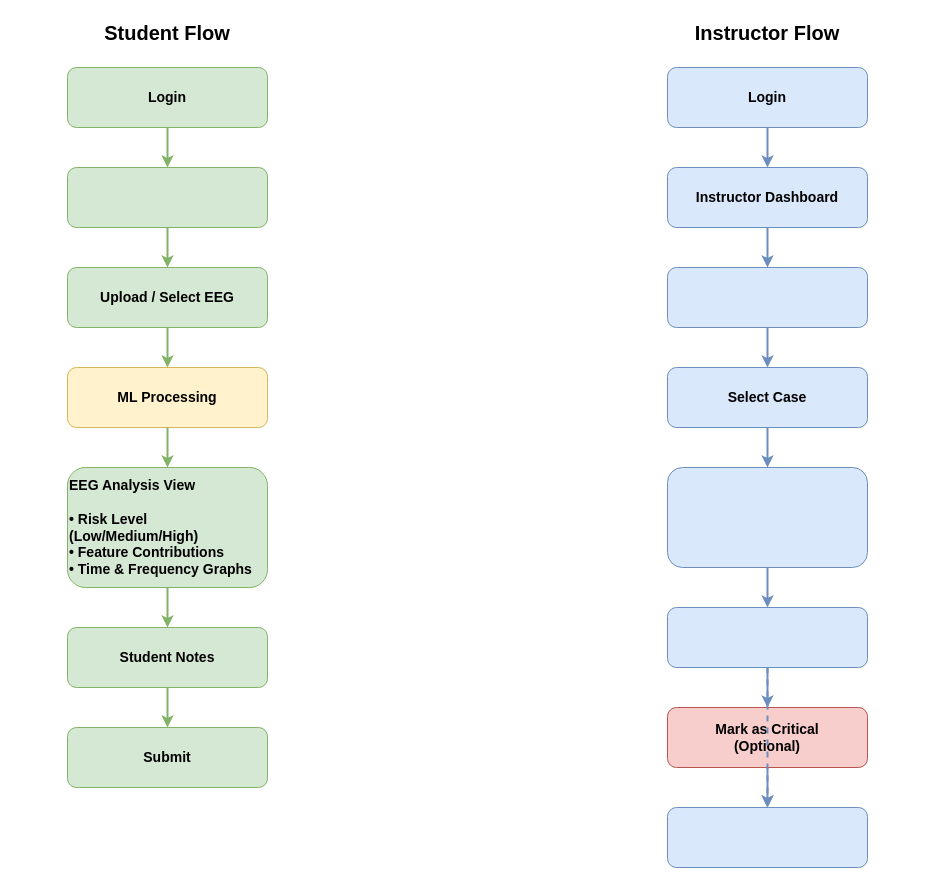
Some shapes in this 934 by 885 pixel diagram are drawn without their labels. The shapes that lost their labels are listed below. From the top down, each one's centre as x and y in pixels, then its label:
At point (167, 197): "Student Dashboard".
At point (767, 297): "Sorted Cases by Risk".
At point (767, 517): "Review Analysis • Model Result • Student Analysis".
At point (767, 637): "Instructor Notes".
At point (767, 837): "Feedback Submitted".
